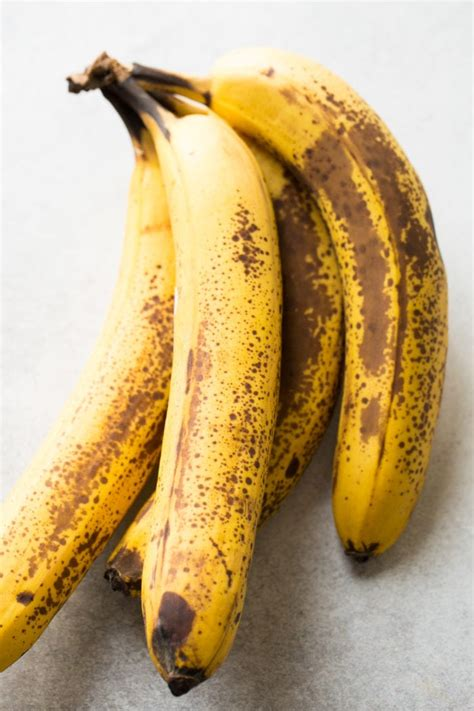banana: (205, 71, 454, 571), (136, 101, 281, 698)
